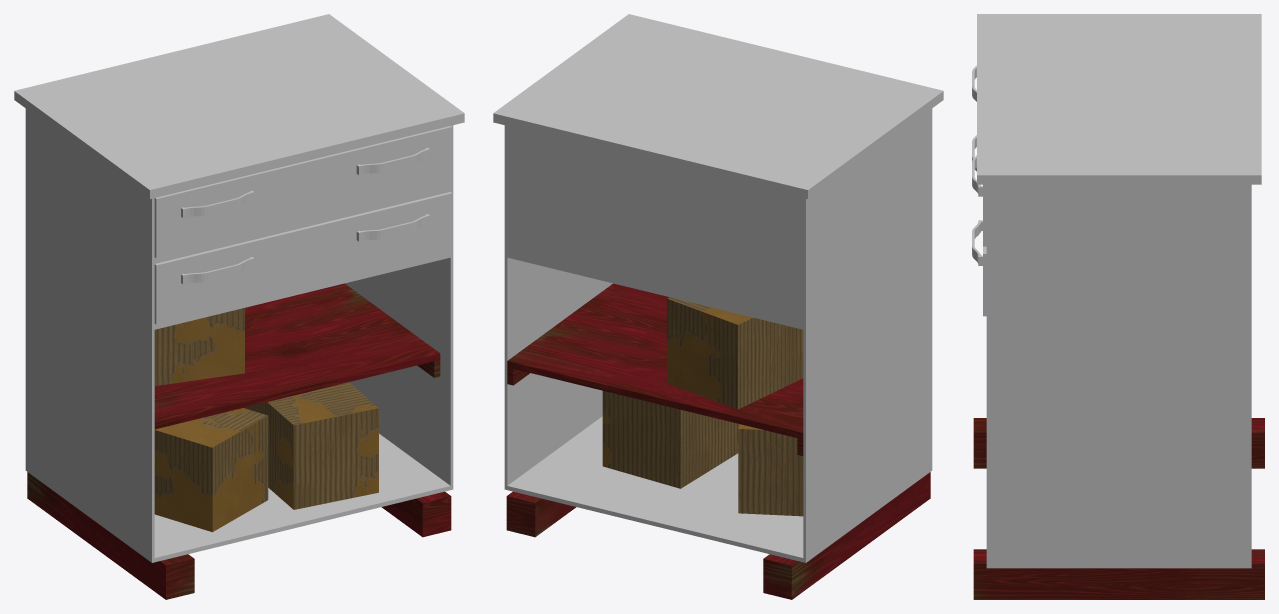
File: ToolChest.dae
3 renders of one model, left to right at view 1: azimuth 30°, elevation 25°; view 2: azimuth 150°, elevation 25°; view 3: azimuth 270°, elevation 25°, orthographic. The views are drawn at different scales.
Visible parts, largest first — view 1: toolbox.obj_1 (×8), group_2, group_5, group_4, group_3 (×2), group_6; view 2: toolbox.obj_1 (×2), group_2, group_6, group_5, group_3 (×2), group_4; view 3: toolbox.obj_1 (×2), group_3 (×2).
Boxes of the visible parts, box(x1,y1,x2,y2) form: toolbox.obj_1 (×8): box(14, 14, 464, 562); group_2: box(154, 283, 440, 429); group_5: box(244, 382, 378, 509); group_4: box(154, 408, 268, 532); group_3 (×2): box(27, 472, 451, 599); group_6: box(154, 308, 244, 385); toolbox.obj_1 (×2): box(493, 14, 943, 562); group_2: box(507, 283, 803, 439); group_6: box(667, 297, 803, 409); group_5: box(602, 391, 739, 488); group_3 (×2): box(506, 472, 930, 599); group_4: box(738, 424, 803, 516); toolbox.obj_1 (×2): box(977, 14, 1261, 568); group_3 (×2): box(973, 418, 1264, 599).
Bounding box in the file's own units: 38.52 × 29.57 × 48.18.
